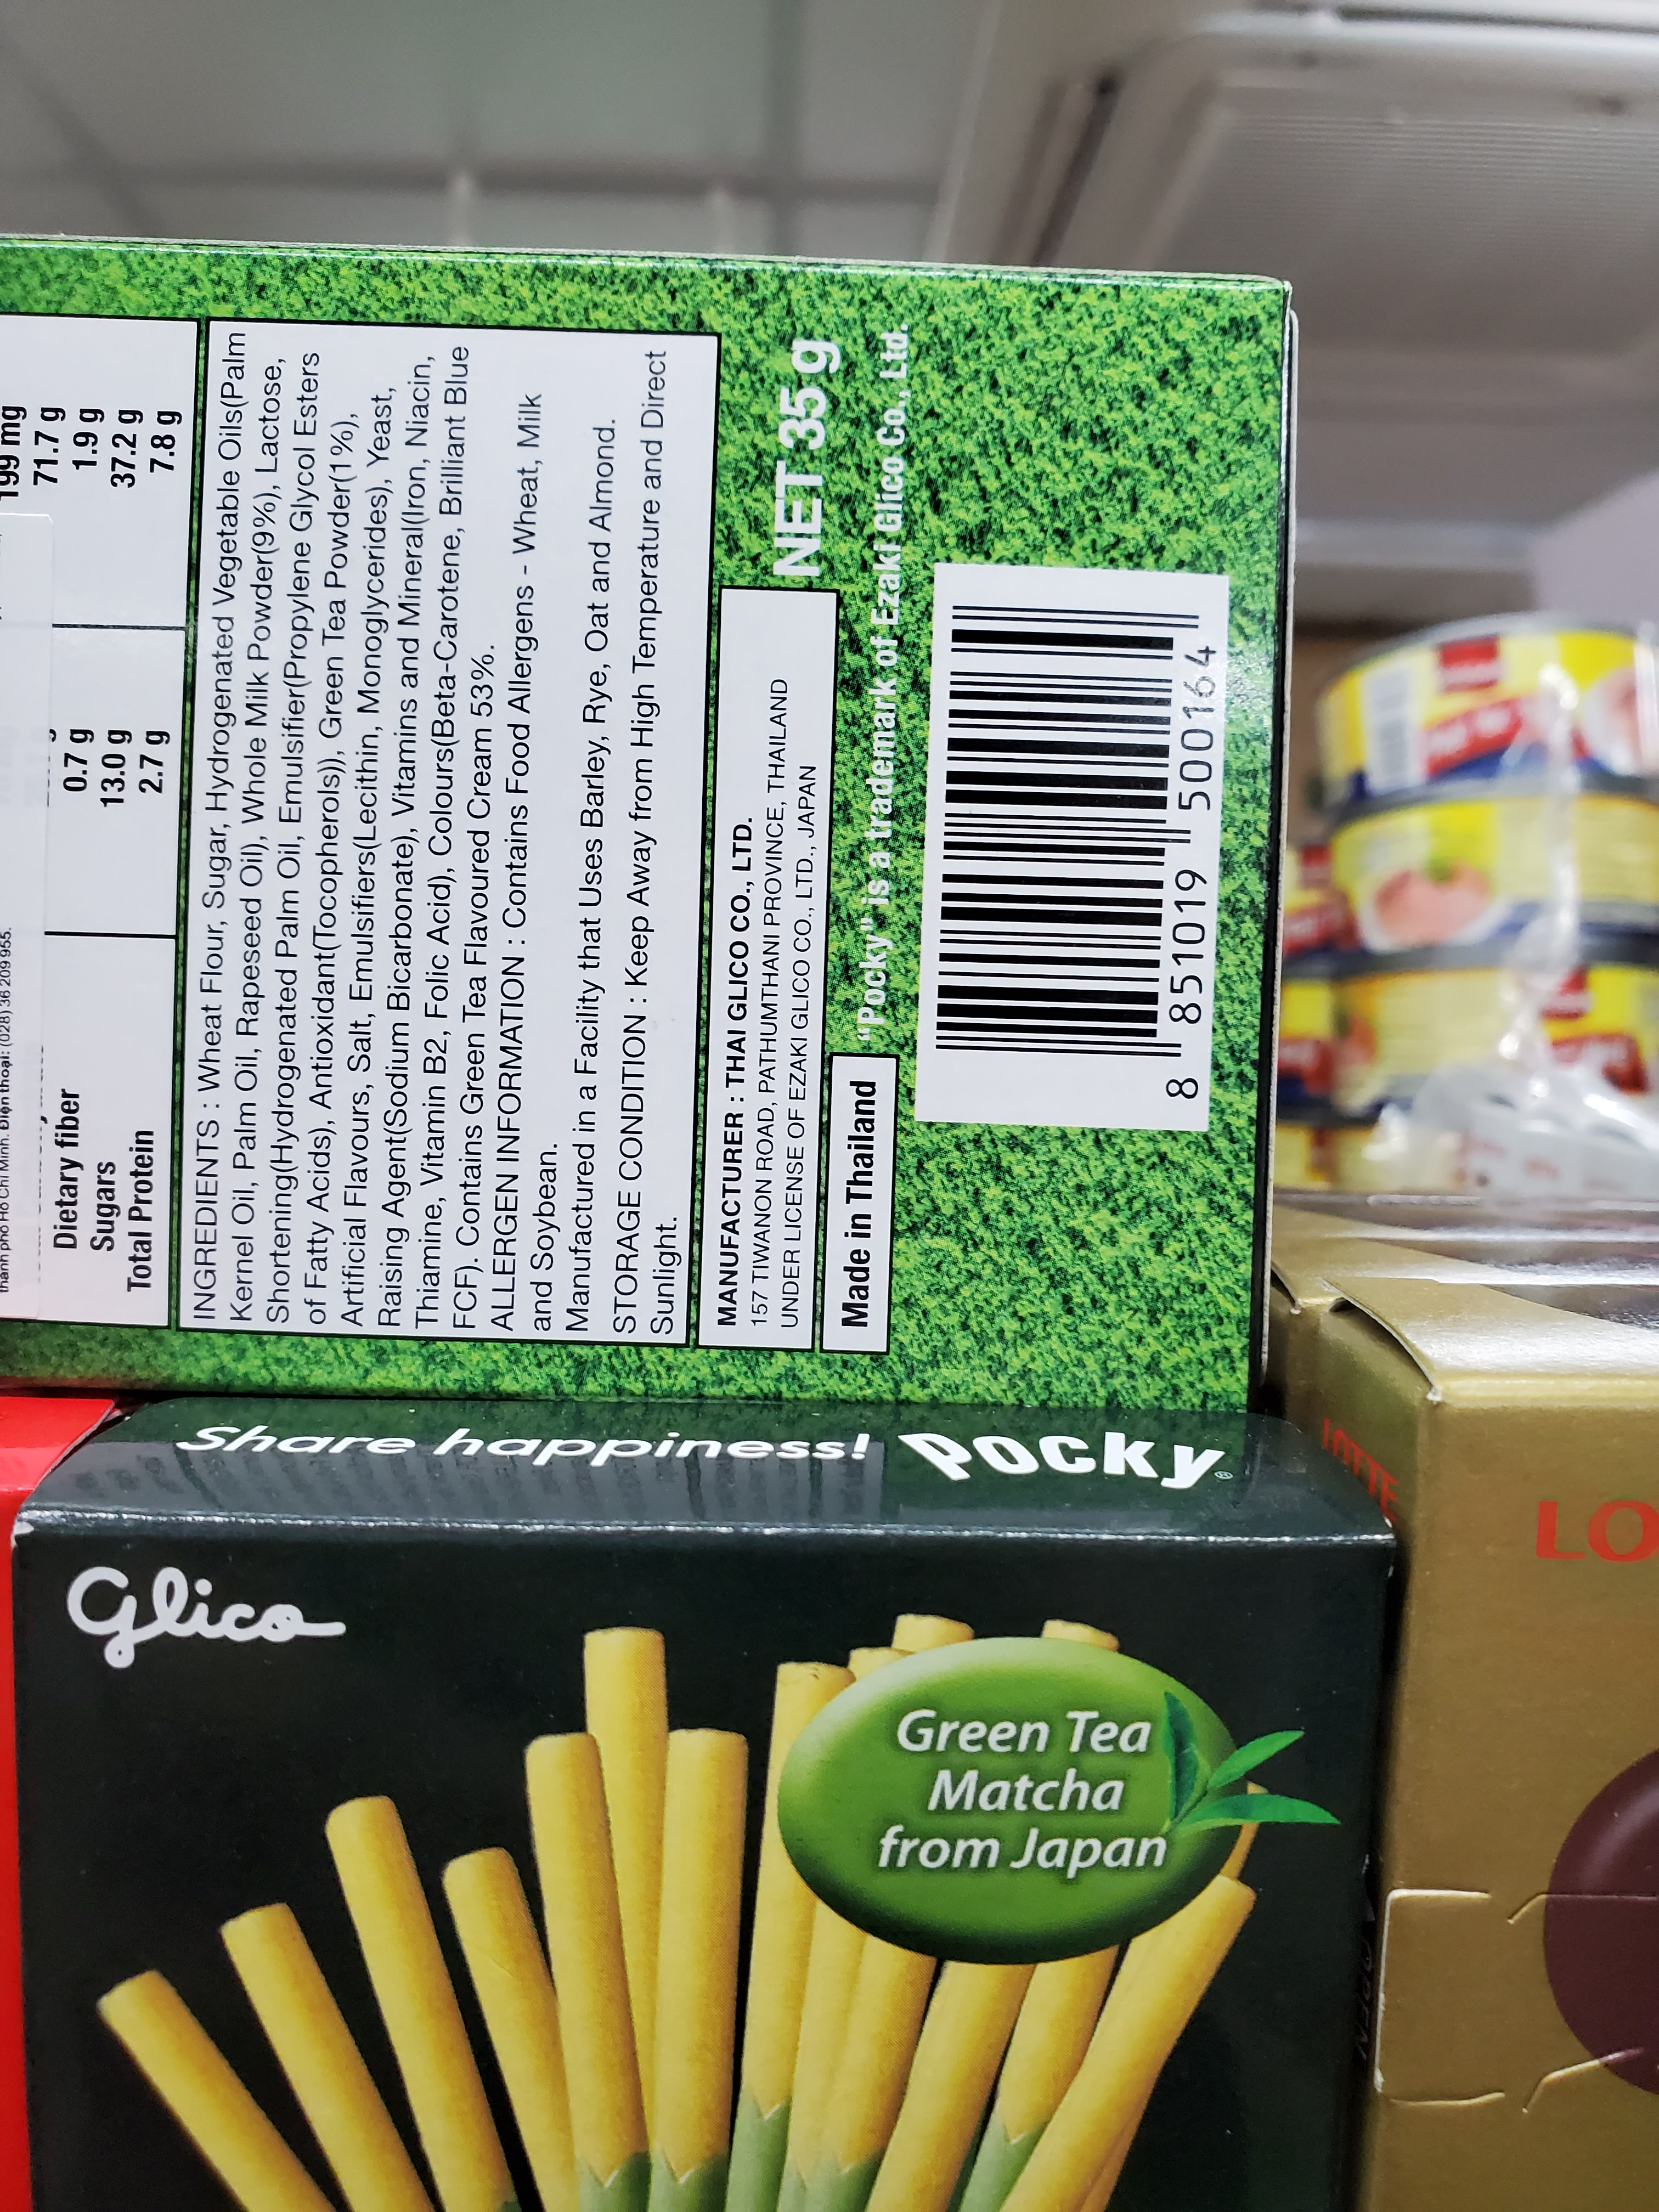barcode: (915, 554, 1223, 1137)
